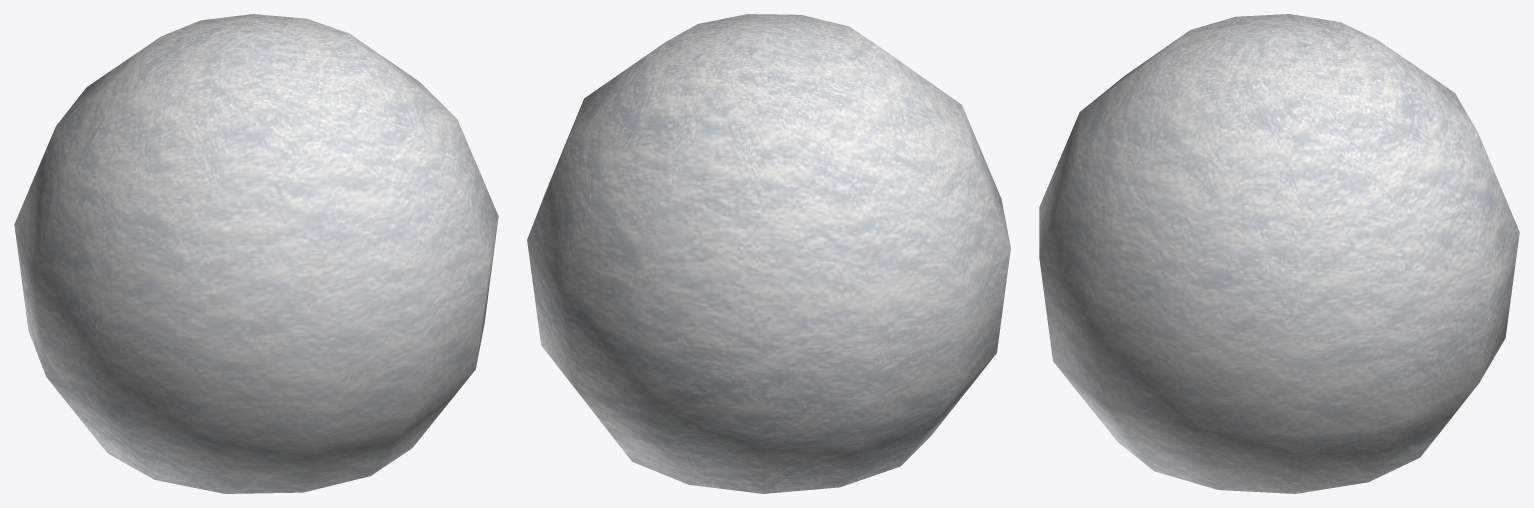
The model's file is OU_AR_Snowball_01_D.fbx.
3 renders of one model, left to right at view 1: azimuth 30°, elevation 25°; view 2: azimuth 150°, elevation 25°; view 3: azimuth 270°, elevation 25°, orthographic.
Visible parts, largest first — view 1: Sphere001; view 2: Sphere001; view 3: Sphere001.
Part boxes in pixels (x1=…): Sphere001: x1=14, y1=14, x2=498, y2=493; Sphere001: x1=527, y1=14, x2=1010, y2=493; Sphere001: x1=1039, y1=14, x2=1519, y2=493.
Bounding box in the file's own units: 25.35 × 25.72 × 25.16.
1 material, 1 textured.
